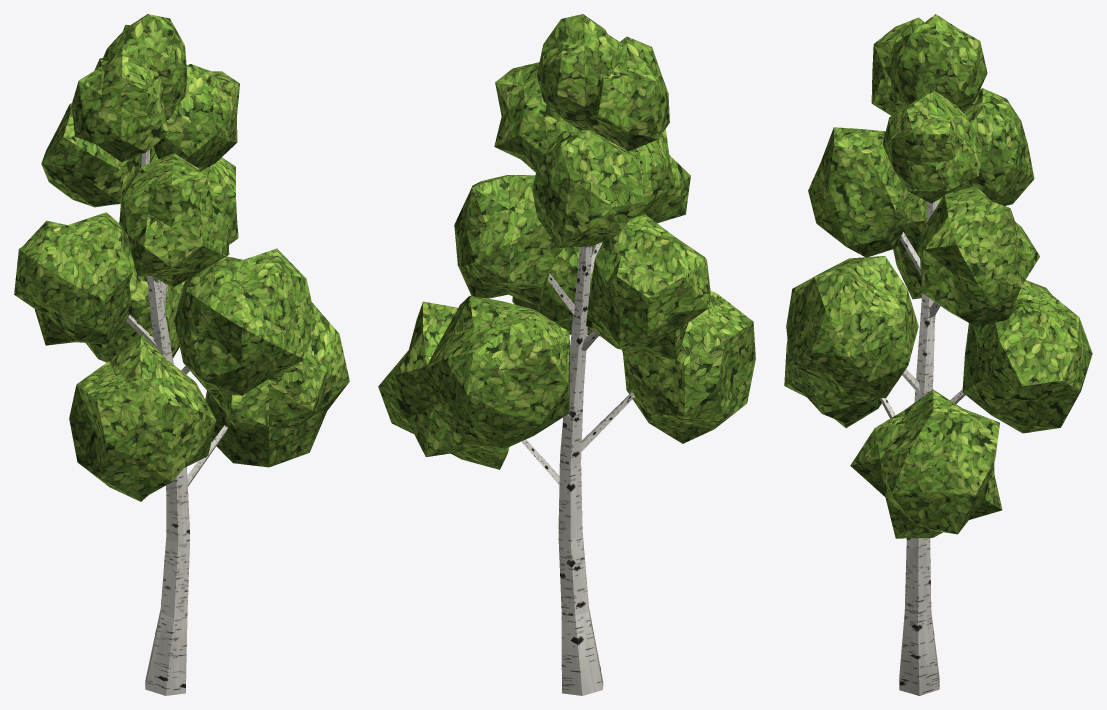
File: birch.glb
The picture shows the model from 3 angles, left to right: view 1: azimuth 30°, elevation 25°; view 2: azimuth 150°, elevation 25°; view 3: azimuth 270°, elevation 25°; orthographic projection. The views are drawn at different scales.
Parts seen in each view (by area): view 1: Birch; view 2: Birch; view 3: Birch.
Part boxes in pixels (box(x1,y1,x2,y2)): Birch: box(14, 14, 349, 695); Birch: box(378, 14, 755, 695); Birch: box(784, 14, 1092, 695).
Size of the model in its own units: 3.97 by 8.21 by 3.44.
Materials: 2 (2 with a texture image).
